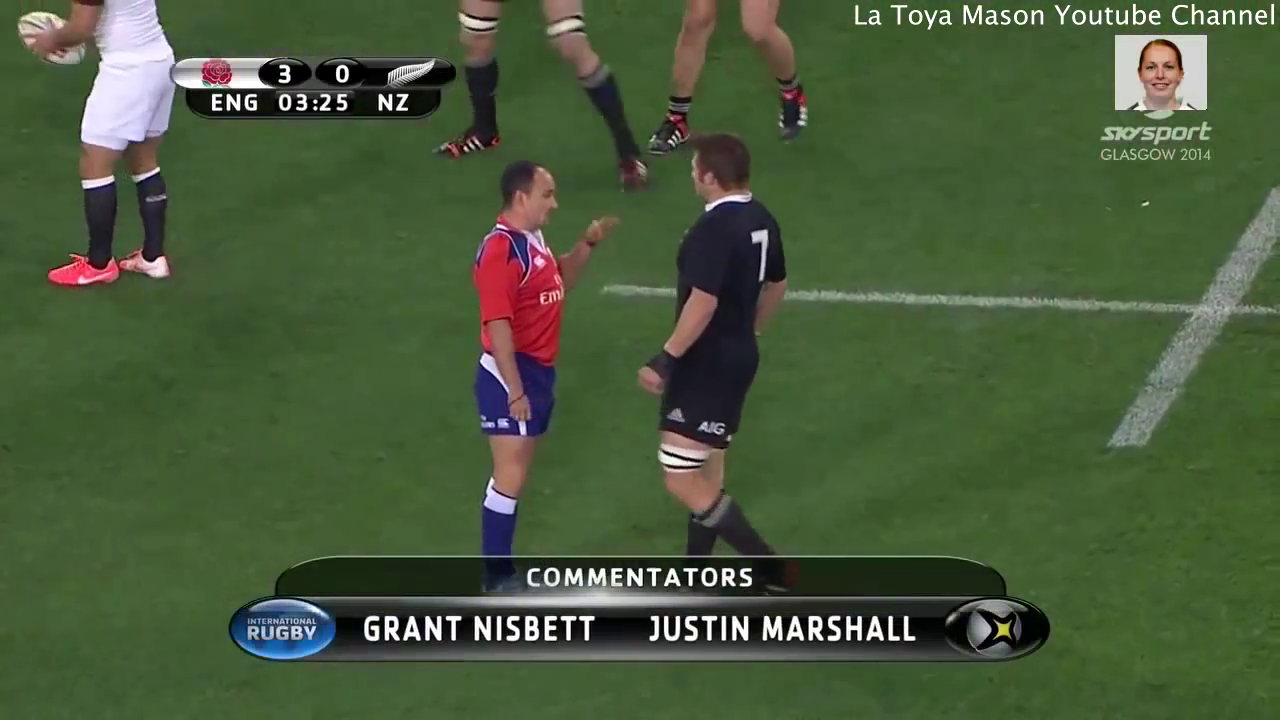player: (437, 155, 620, 554), (632, 135, 794, 556), (17, 1, 178, 290)
